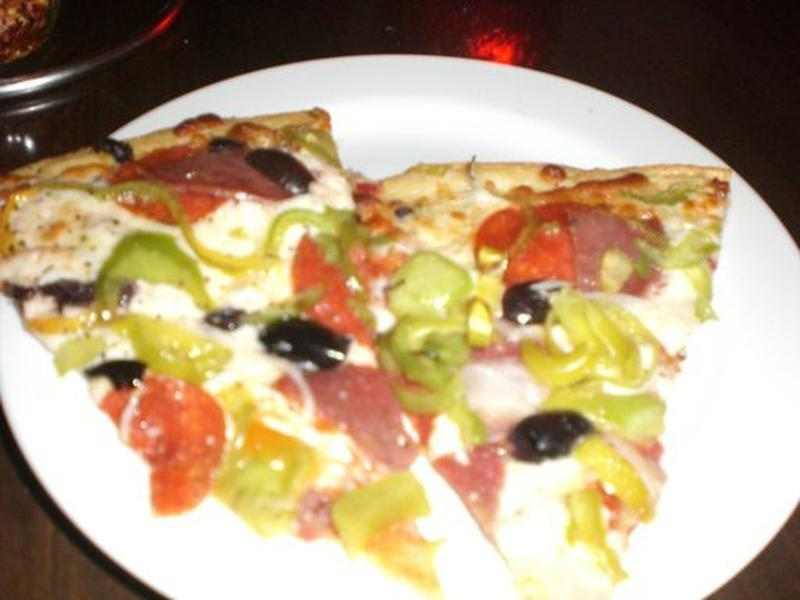pizza: (15, 68, 755, 581)
